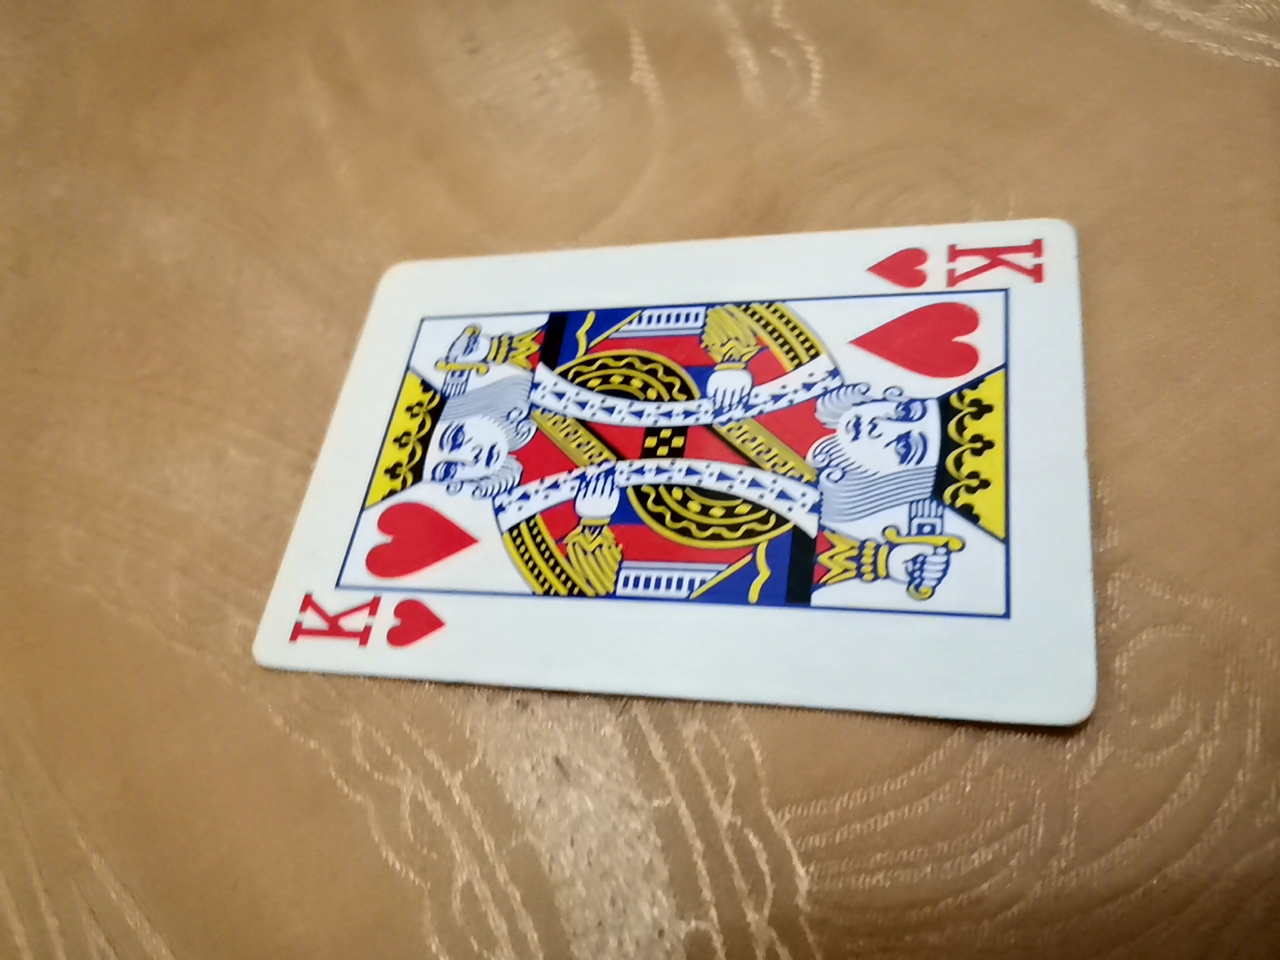hx k: (198, 249, 1111, 735)
